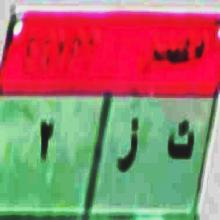2: (36, 116, 56, 176)
taa: (166, 113, 194, 167)
zay: (117, 112, 140, 180)
